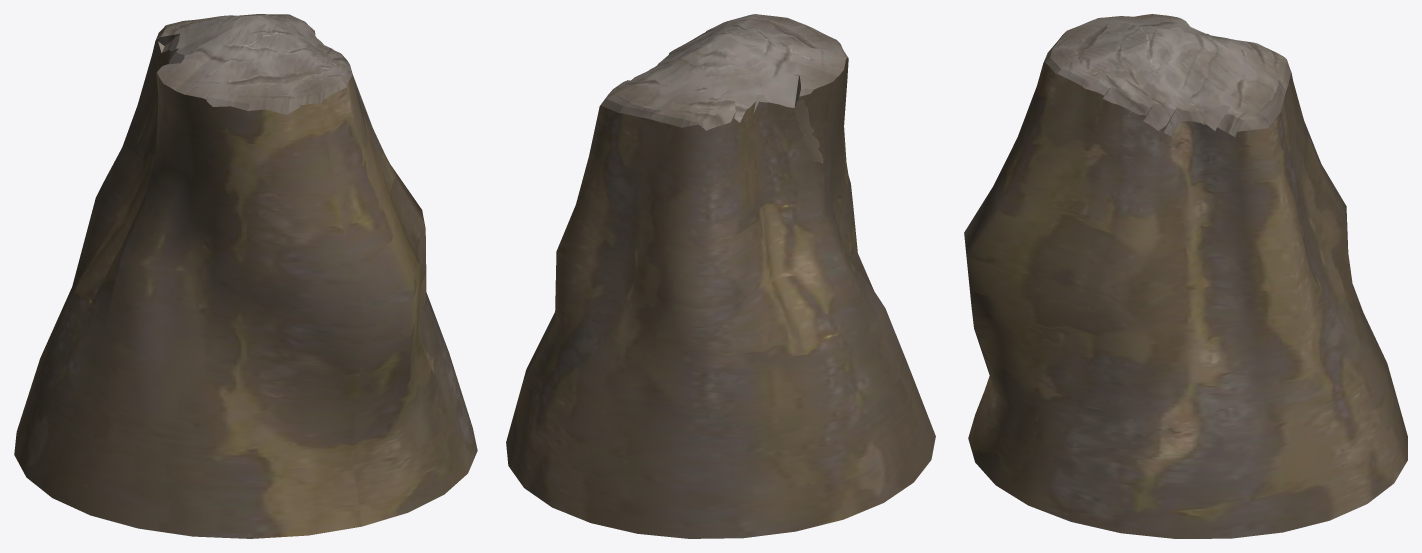
The picture shows the model from 3 angles, left to right: view 1: azimuth 30°, elevation 25°; view 2: azimuth 150°, elevation 25°; view 3: azimuth 270°, elevation 25°; orthographic projection. The views are drawn at different scales.
Parts seen in each view (by area): view 1: SM_Yew_01_stump_LOD0; view 2: SM_Yew_01_stump_LOD0; view 3: SM_Yew_01_stump_LOD0.
Part boxes in pixels (x1=…): SM_Yew_01_stump_LOD0: x1=14, y1=14, x2=477, y2=538; SM_Yew_01_stump_LOD0: x1=506, y1=14, x2=935, y2=538; SM_Yew_01_stump_LOD0: x1=964, y1=14, x2=1407, y2=538.
Size of the model in its own units: 1.99 by 2.09 by 2.
Materials: 1 (1 with a texture image).
